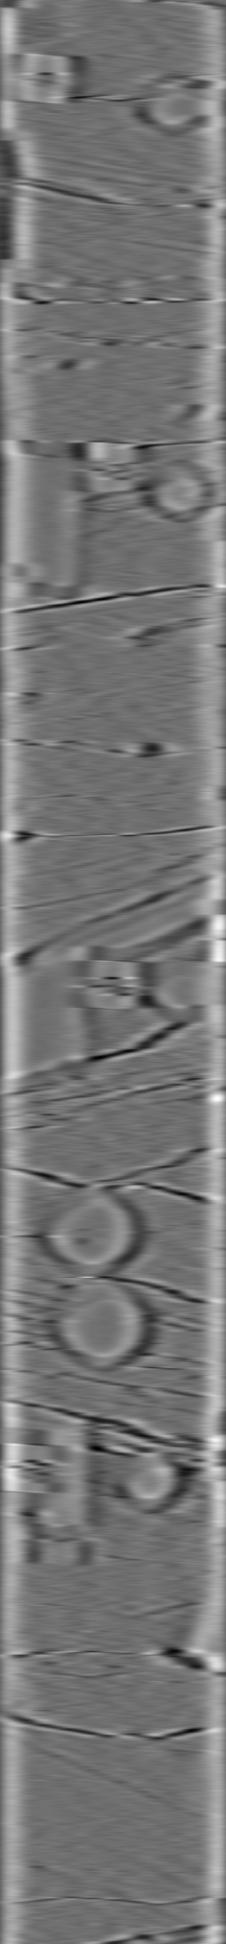hplug: (125, 69, 210, 141), (112, 1446, 190, 1518), (138, 451, 212, 524), (140, 953, 210, 1025)
scal: (48, 1277, 158, 1372), (38, 1182, 142, 1275)
vplug: (20, 1403, 98, 1575), (17, 435, 92, 603)
